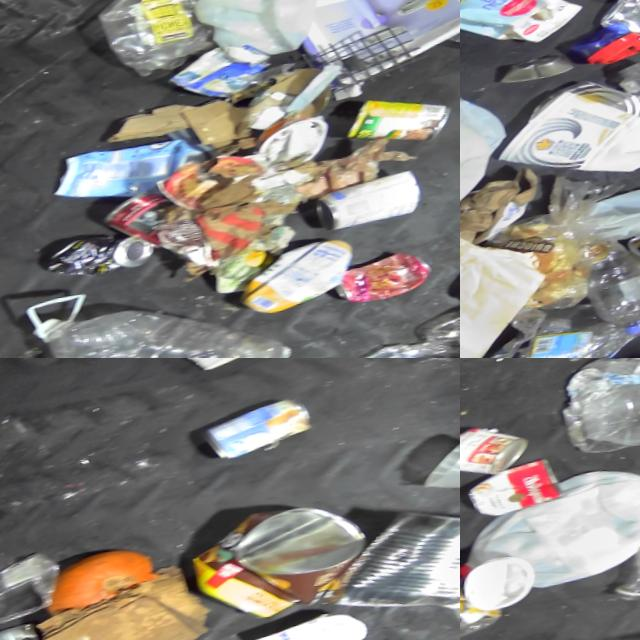can: (189, 497, 380, 633), (329, 498, 460, 639), (201, 397, 320, 465), (343, 90, 460, 159), (528, 73, 640, 141), (166, 43, 277, 109), (318, 174, 427, 237), (468, 457, 572, 522), (48, 228, 162, 284), (335, 255, 440, 312), (101, 190, 185, 258), (460, 419, 539, 484), (596, 0, 640, 61), (501, 55, 578, 89)
milk_jug: (460, 460, 640, 603), (189, 0, 328, 70), (460, 59, 517, 172), (591, 167, 640, 253)
non_white_jug: (53, 135, 210, 210), (237, 240, 363, 323), (460, 0, 593, 71)
plastic_bottle: (24, 260, 309, 358), (580, 237, 640, 347), (461, 307, 561, 358), (605, 487, 640, 608), (584, 379, 640, 454), (460, 567, 510, 640)
